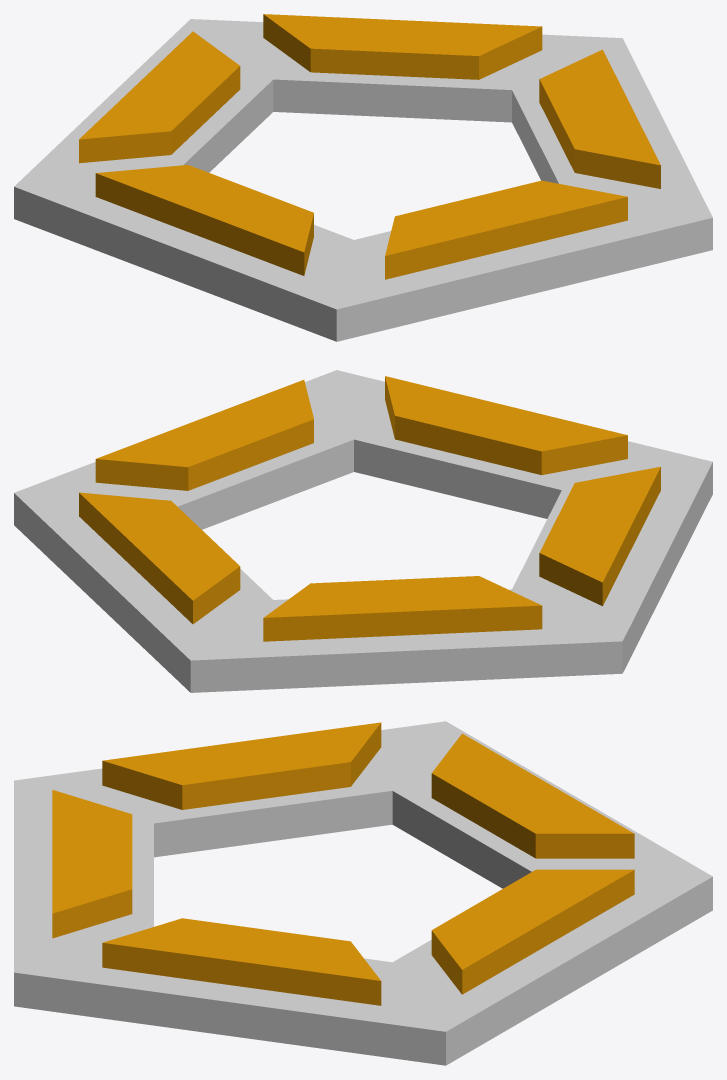
The model's file is staminaBar.fbx.
The picture shows the model from 3 angles, top to bottom: view 1: azimuth 30°, elevation 25°; view 2: azimuth 150°, elevation 25°; view 3: azimuth 270°, elevation 25°; orthographic projection. The views are drawn at different scales.
Visible parts, largest first — view 1: Stamina Bar Outline, Stamina Bar.001, Stamina Bar.003, Stamina Bar.002, Stamina Bar, Stamina Bar.004; view 2: Stamina Bar Outline, Stamina Bar, Stamina Bar.003, Stamina Bar.004, Stamina Bar.001, Stamina Bar.002; view 3: Stamina Bar Outline, Stamina Bar.004, Stamina Bar.002, Stamina Bar.001, Stamina Bar, Stamina Bar.003.
Part boxes in pixels (x1,y1,x2,y2): Stamina Bar Outline: (14, 19, 712, 341); Stamina Bar.001: (263, 14, 542, 79); Stamina Bar.003: (385, 180, 627, 279); Stamina Bar.002: (95, 165, 313, 275); Stamina Bar: (79, 31, 240, 163); Stamina Bar.004: (539, 49, 660, 188); Stamina Bar Outline: (14, 370, 712, 692); Stamina Bar: (263, 576, 542, 641); Stamina Bar.003: (385, 376, 627, 475); Stamina Bar.004: (95, 380, 313, 490); Stamina Bar.001: (79, 492, 240, 624); Stamina Bar.002: (539, 466, 660, 606); Stamina Bar Outline: (14, 721, 712, 1065); Stamina Bar.004: (102, 918, 381, 1005); Stamina Bar.002: (102, 722, 381, 809); Stamina Bar.001: (431, 869, 634, 994); Stamina Bar: (431, 733, 634, 858); Stamina Bar.003: (52, 790, 132, 938).
Bounding box in the file's own units: 5.42 × 0.4772 × 5.15.
